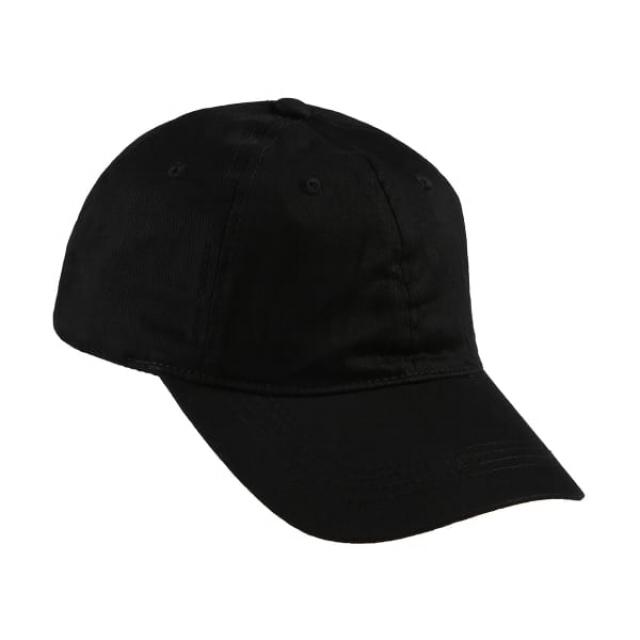Cap: (51, 88, 590, 556)
